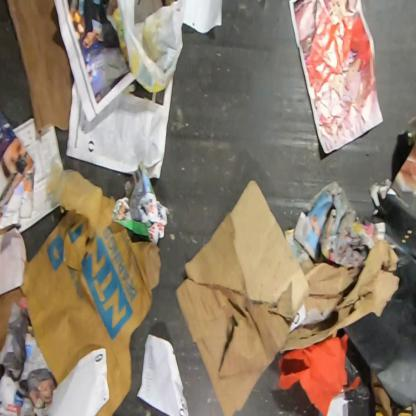cardboard: (175, 181, 399, 415), (21, 161, 161, 416), (7, 0, 74, 135), (0, 287, 28, 354)
soft_plastic: (104, 1, 187, 95)
